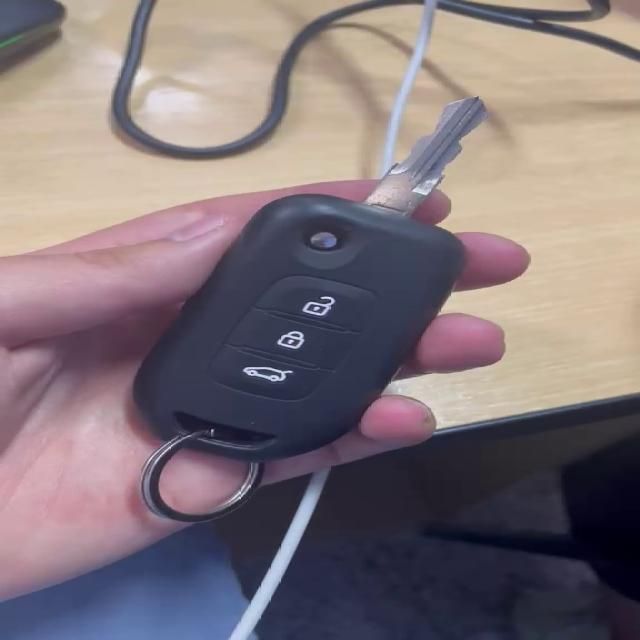llave-auto: (140, 92, 519, 529)
